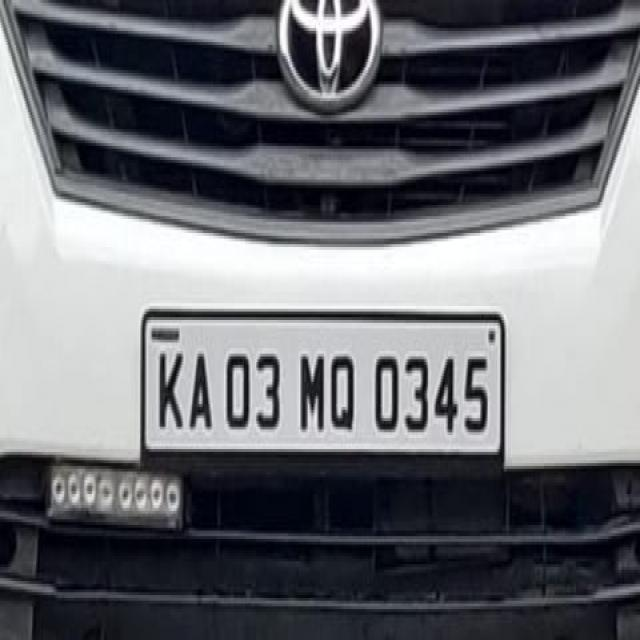0: (222, 346, 254, 439), (372, 346, 401, 438)
3: (402, 348, 432, 445), (255, 347, 283, 440)
4: (433, 342, 464, 452)
5: (460, 344, 493, 439)
A: (188, 341, 214, 437)
K: (151, 340, 186, 438)
M: (297, 347, 329, 438)
Q: (330, 353, 360, 439)
